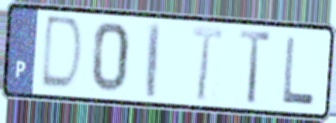0: (89, 20, 132, 96)
D: (37, 13, 86, 96)
I: (145, 20, 162, 101)
L: (281, 34, 317, 107)
T: (237, 27, 274, 107), (190, 23, 225, 104)
